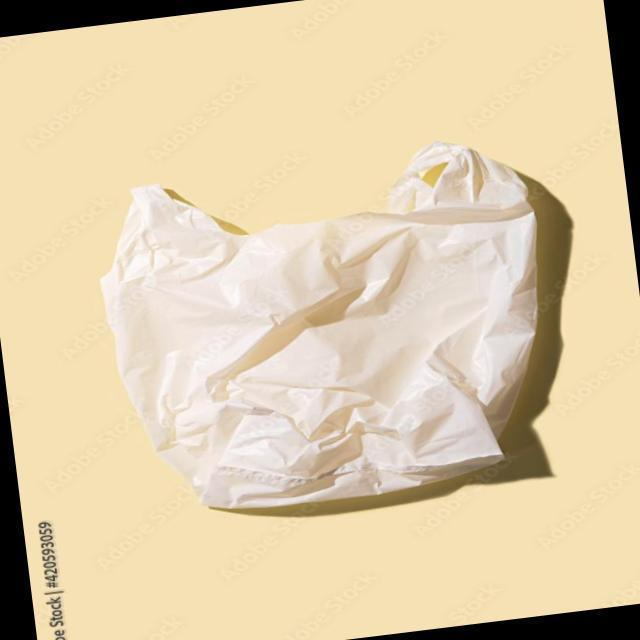Plastic_Bag: (98, 138, 558, 536)
